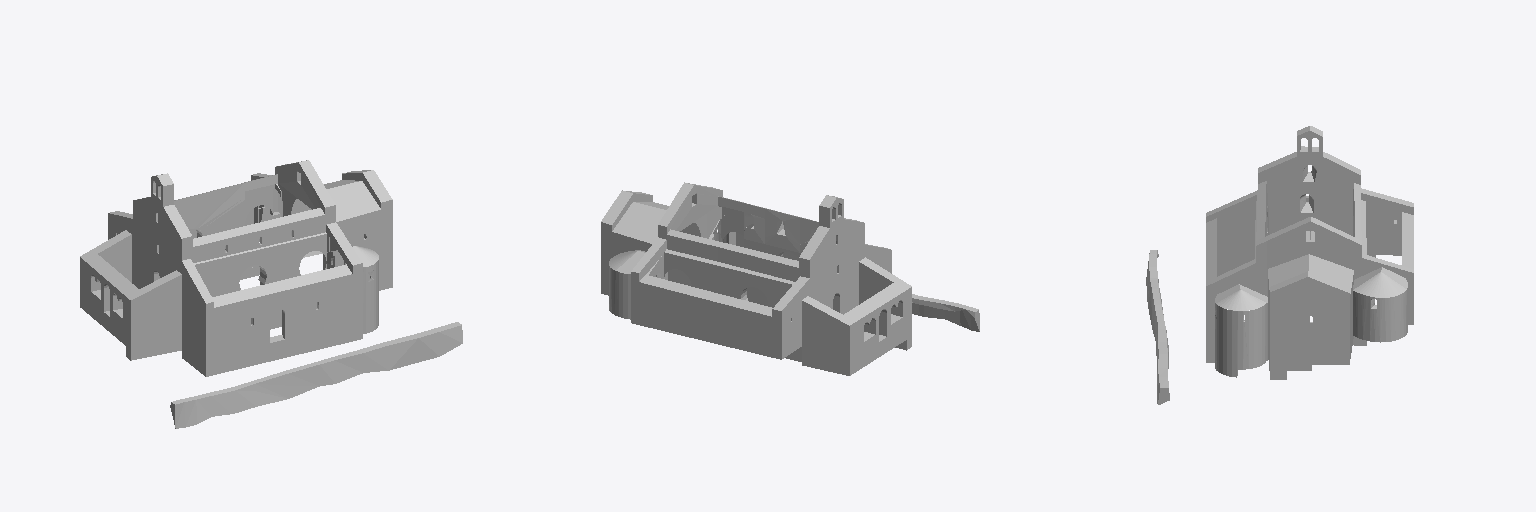
The model's file is 1_Pedret_XII.obj.
3 views of the same model, side by side, from view 1: azimuth 30°, elevation 25°; view 2: azimuth 150°, elevation 25°; view 3: azimuth 270°, elevation 25° (orthographic).
Parts seen in each view (by area): view 1: PEDRET_XII-baked-1; view 2: PEDRET_XII-baked-1; view 3: PEDRET_XII-baked-1.
Boxes of the visible parts, x1=… form: PEDRET_XII-baked-1: x1=80, y1=160, x2=462, y2=428; PEDRET_XII-baked-1: x1=601, y1=182, x2=979, y2=375; PEDRET_XII-baked-1: x1=1146, y1=126, x2=1413, y2=404.
Size of the model in its own units: 21 by 12.3 by 16.71.